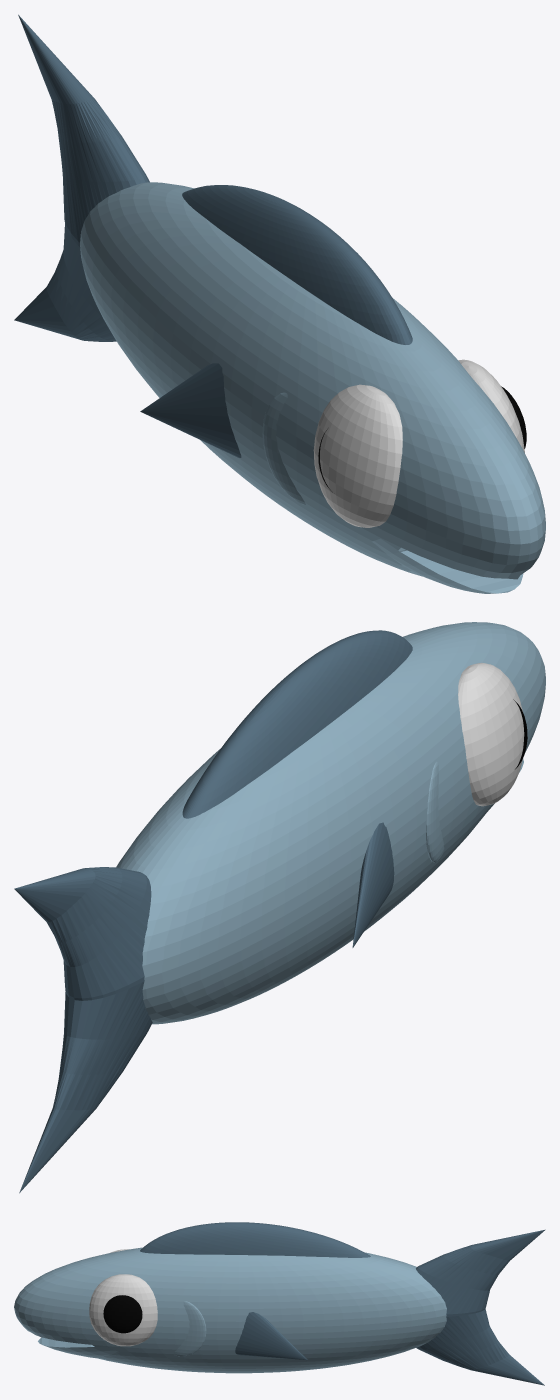
Rendered from Fish.glb.
The picture shows the model from 3 angles, top to bottom: view 1: azimuth 30°, elevation 25°; view 2: azimuth 150°, elevation 25°; view 3: azimuth 270°, elevation 25°; orthographic projection. The views are drawn at different scales.
Parts seen in each view (by area): view 1: Body, Stuff, Eye, Mouth; view 2: Body, Stuff, Eye; view 3: Body, Stuff, Eye, Iris, Mouth.
Part boxes in pixels (bbox=[...]): Body: bbox=[80, 182, 545, 579]; Stuff: bbox=[14, 14, 412, 457]; Eye: bbox=[313, 359, 524, 527]; Mouth: bbox=[371, 538, 523, 593]; Body: bbox=[116, 622, 545, 1024]; Stuff: bbox=[14, 630, 412, 1193]; Eye: bbox=[458, 662, 524, 806]; Body: bbox=[14, 1247, 446, 1373]; Stuff: bbox=[140, 1222, 545, 1385]; Eye: bbox=[89, 1249, 157, 1346]; Iris: bbox=[103, 1295, 142, 1333]; Mouth: bbox=[38, 1337, 118, 1359].
Bounding box in the file's own units: 1.07 × 1.52 × 4.49.
